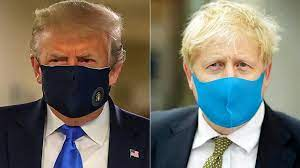FaceMask: (191, 73, 265, 127), (39, 64, 111, 118)
